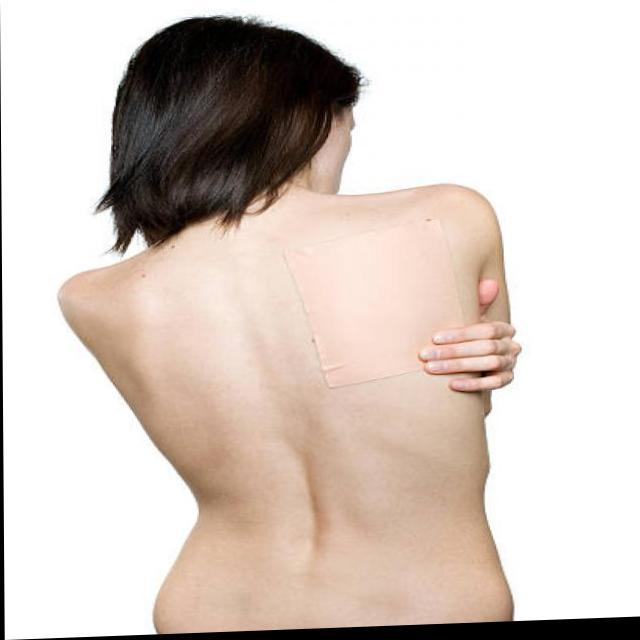no helmet: (86, 15, 383, 206)
